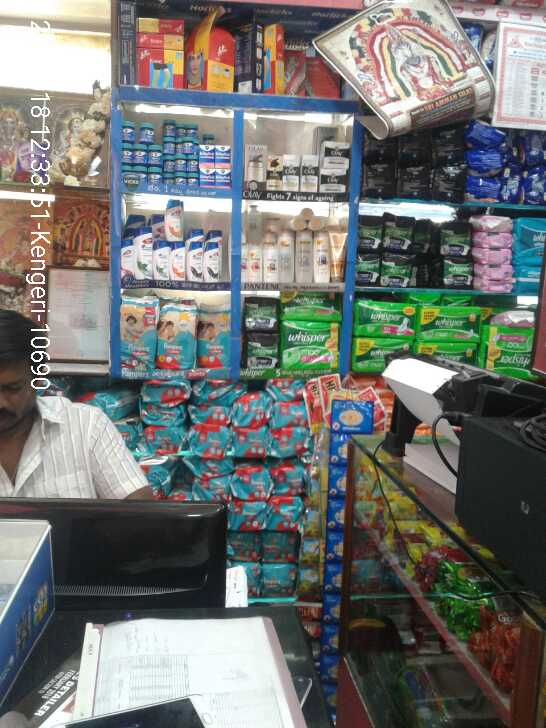beauty: (292, 220, 326, 287), (267, 145, 311, 186), (314, 142, 352, 187), (185, 245, 219, 292), (324, 219, 349, 279), (238, 235, 261, 288), (165, 235, 187, 286), (132, 224, 154, 273), (245, 145, 267, 189), (260, 248, 277, 280), (152, 241, 165, 275)
pharmacy: (274, 314, 339, 368), (193, 303, 239, 373), (154, 301, 196, 367), (116, 294, 152, 368), (489, 321, 537, 367), (354, 298, 410, 336), (110, 145, 157, 190), (409, 306, 479, 336), (194, 140, 235, 188), (350, 335, 403, 366), (161, 152, 193, 186), (155, 112, 194, 135), (161, 135, 193, 155), (121, 115, 137, 151), (137, 119, 152, 141)
